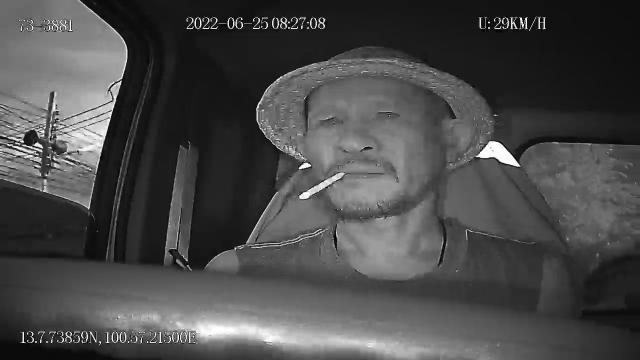SafeDriving: (312, 106, 349, 133), (369, 101, 406, 126)
Smoking: (298, 171, 346, 199)
